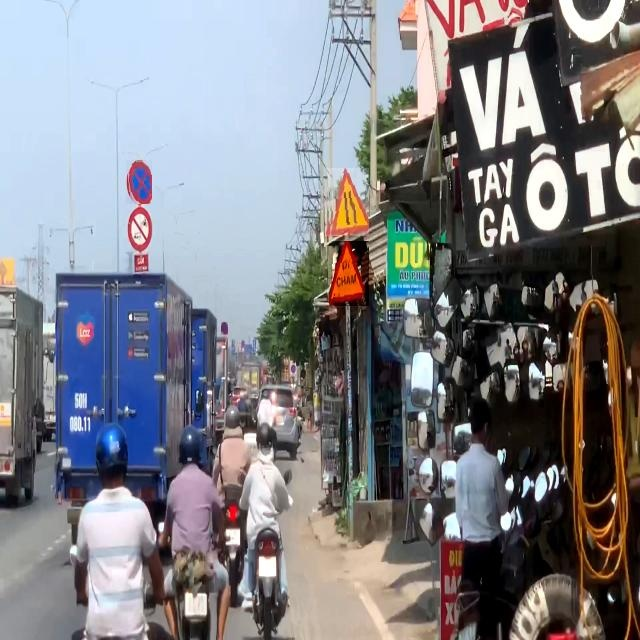bien_nguy_hiem: (325, 168, 369, 236), (329, 241, 369, 306), (126, 160, 152, 204), (221, 322, 228, 335), (291, 364, 296, 374)
